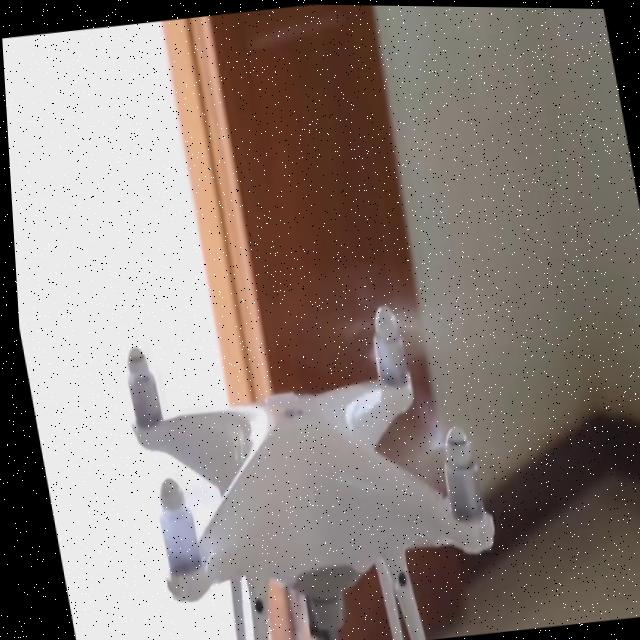drones: (52, 223, 547, 640)
